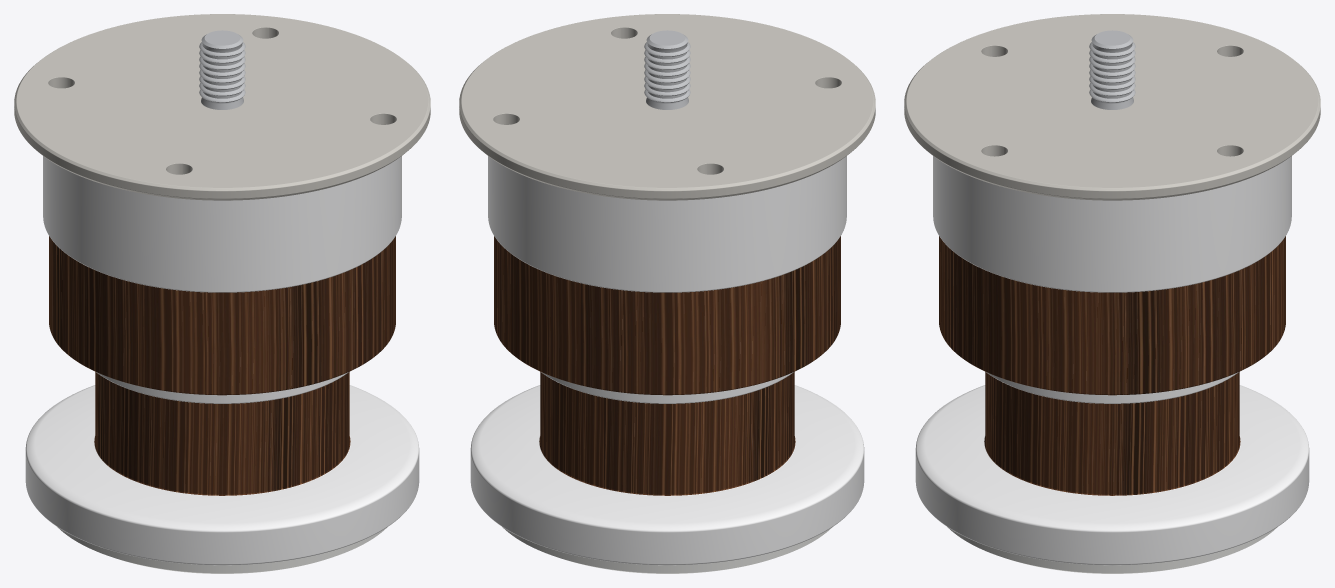
File: sofa-legs-1244.glb
3 views of the same model, side by side, from view 1: azimuth 30°, elevation 25°; view 2: azimuth 150°, elevation 25°; view 3: azimuth 270°, elevation 25° (orthographic).
Visible parts, largest first — view 1: Body, Plate, Stud, Glide; view 2: Body, Plate, Stud, Glide; view 3: Body, Plate, Stud, Glide.
Boxes of the visible parts, box(x1,y1,x2,y2) form: Body: box(25, 156, 419, 565); Plate: box(14, 14, 430, 200); Stud: box(199, 30, 245, 109); Glide: box(57, 527, 387, 573); Body: box(470, 156, 864, 565); Plate: box(459, 14, 875, 200); Stud: box(644, 30, 690, 109); Glide: box(502, 527, 832, 573); Body: box(915, 156, 1309, 565); Plate: box(904, 14, 1320, 200); Stud: box(1089, 30, 1135, 109); Glide: box(947, 527, 1277, 573).
Size of the model in its own units: 0.072 by 0.0882 by 0.072.
5 materials, 1 textured.
